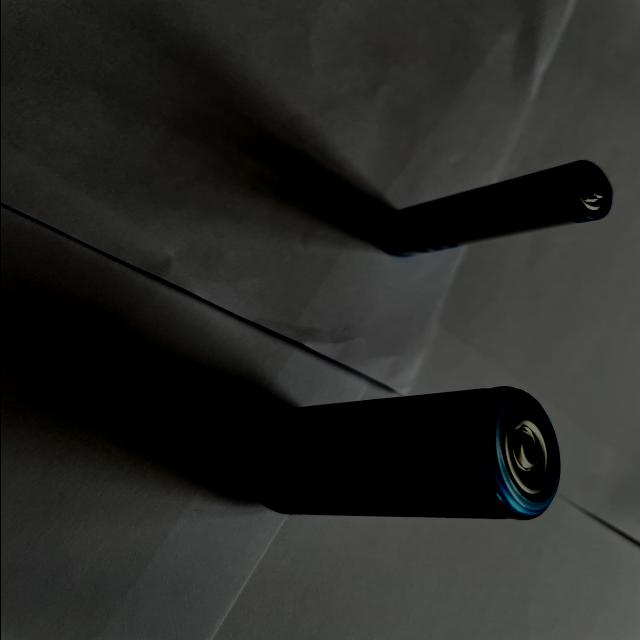AA: (374, 161, 612, 259)
